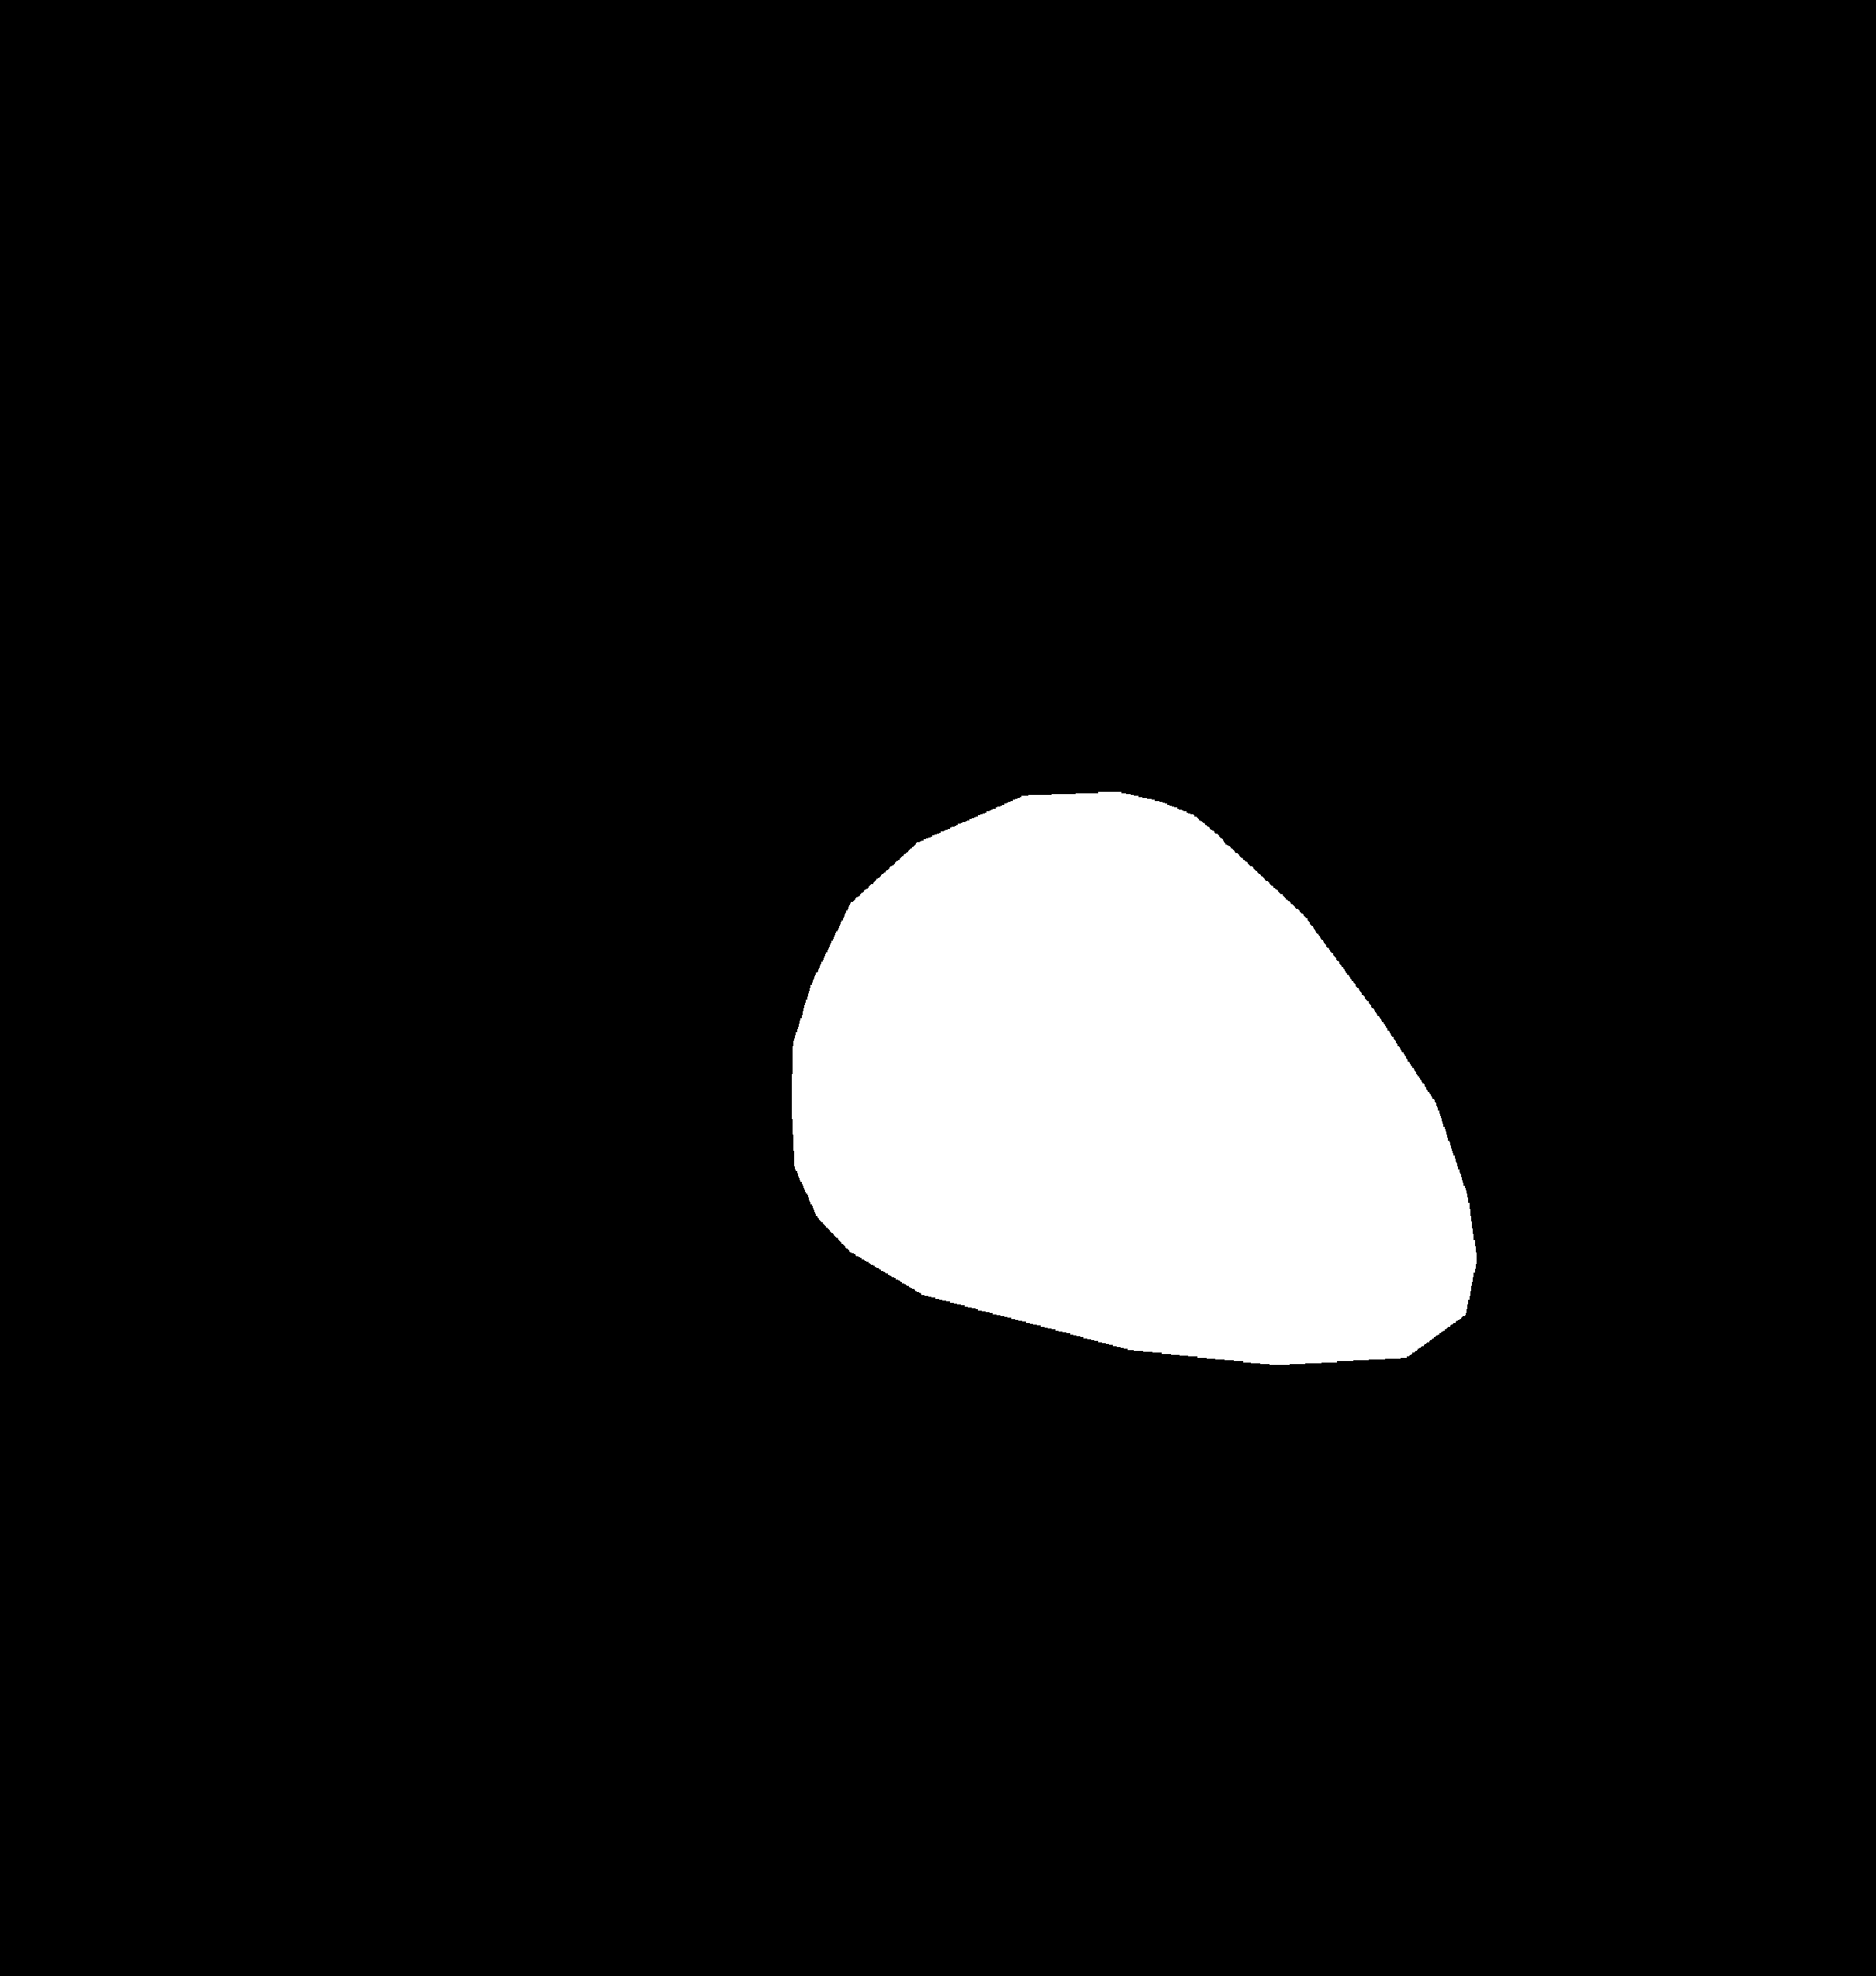heart: (786, 851, 1467, 1410)
left_lung: (231, 118, 837, 1410)
right_lung: (1021, 130, 1638, 1460)
